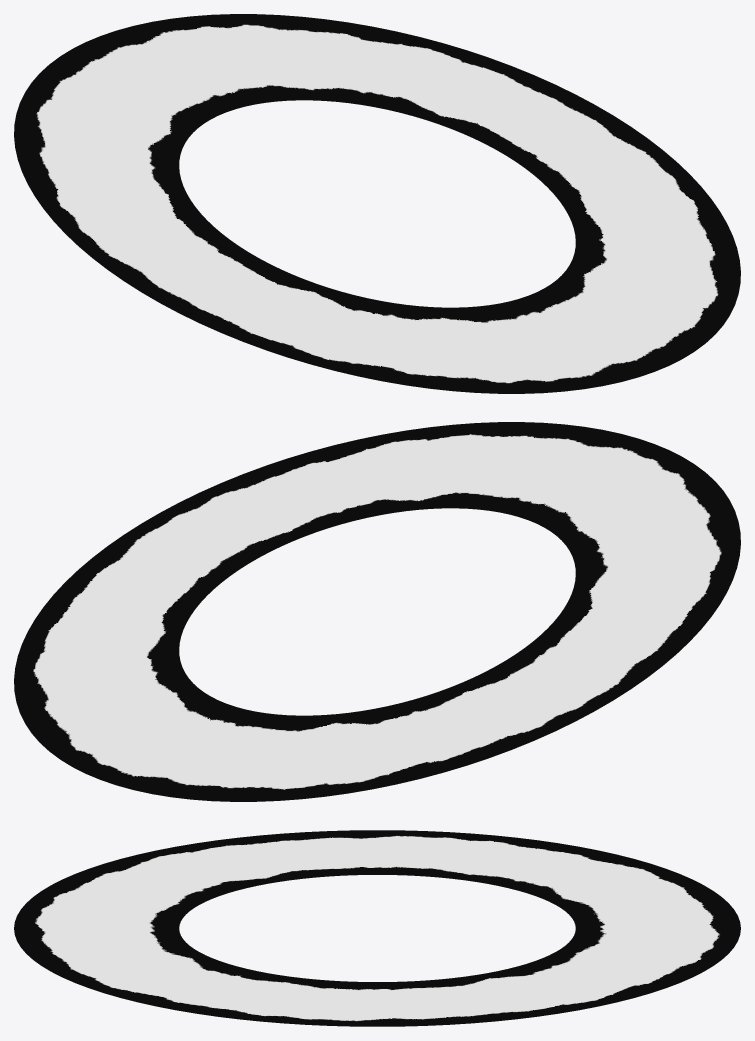
File: AuraRing.fbx
3 views of the same model, one above another, from view 1: azimuth 30°, elevation 25°; view 2: azimuth 150°, elevation 25°; view 3: azimuth 270°, elevation 25° (orthographic). The views are drawn at different scales.
Parts seen in each view (by area): view 1: AuraRing; view 2: AuraRing; view 3: AuraRing.
Boxes of the visible parts, box(x1,y1,x2,y2) form: AuraRing: box(14, 14, 740, 393); AuraRing: box(14, 422, 740, 801); AuraRing: box(14, 830, 740, 1026).
Bounding box in the file's own units: 704 × 0 × 1100.
1 material, 1 textured.
